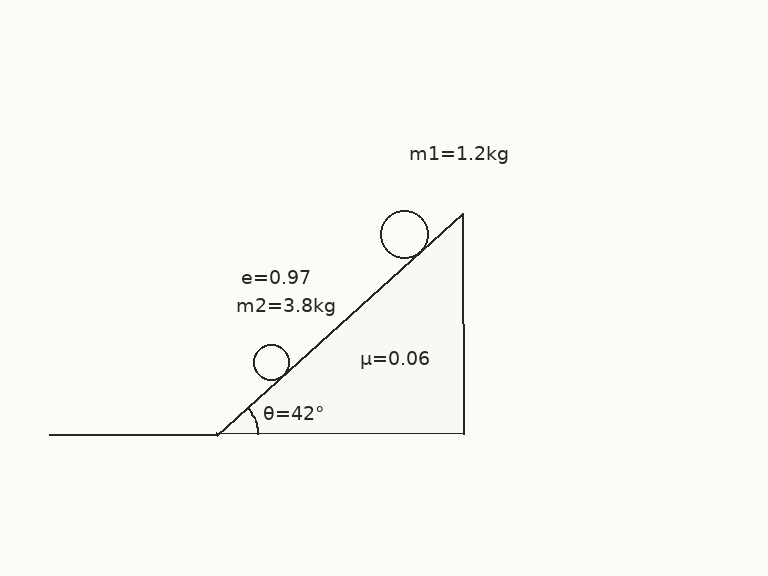ball: (378, 208, 430, 260), (251, 342, 291, 382)
ramp: (216, 211, 465, 436)
